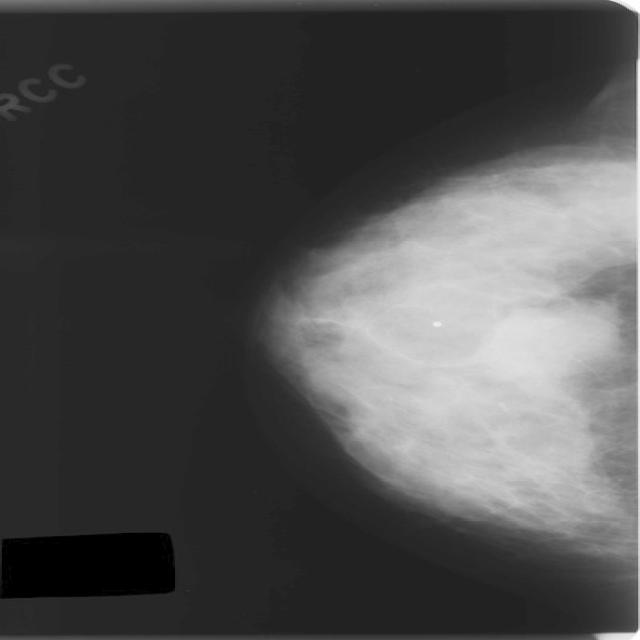tumour: (481, 302, 618, 382)
